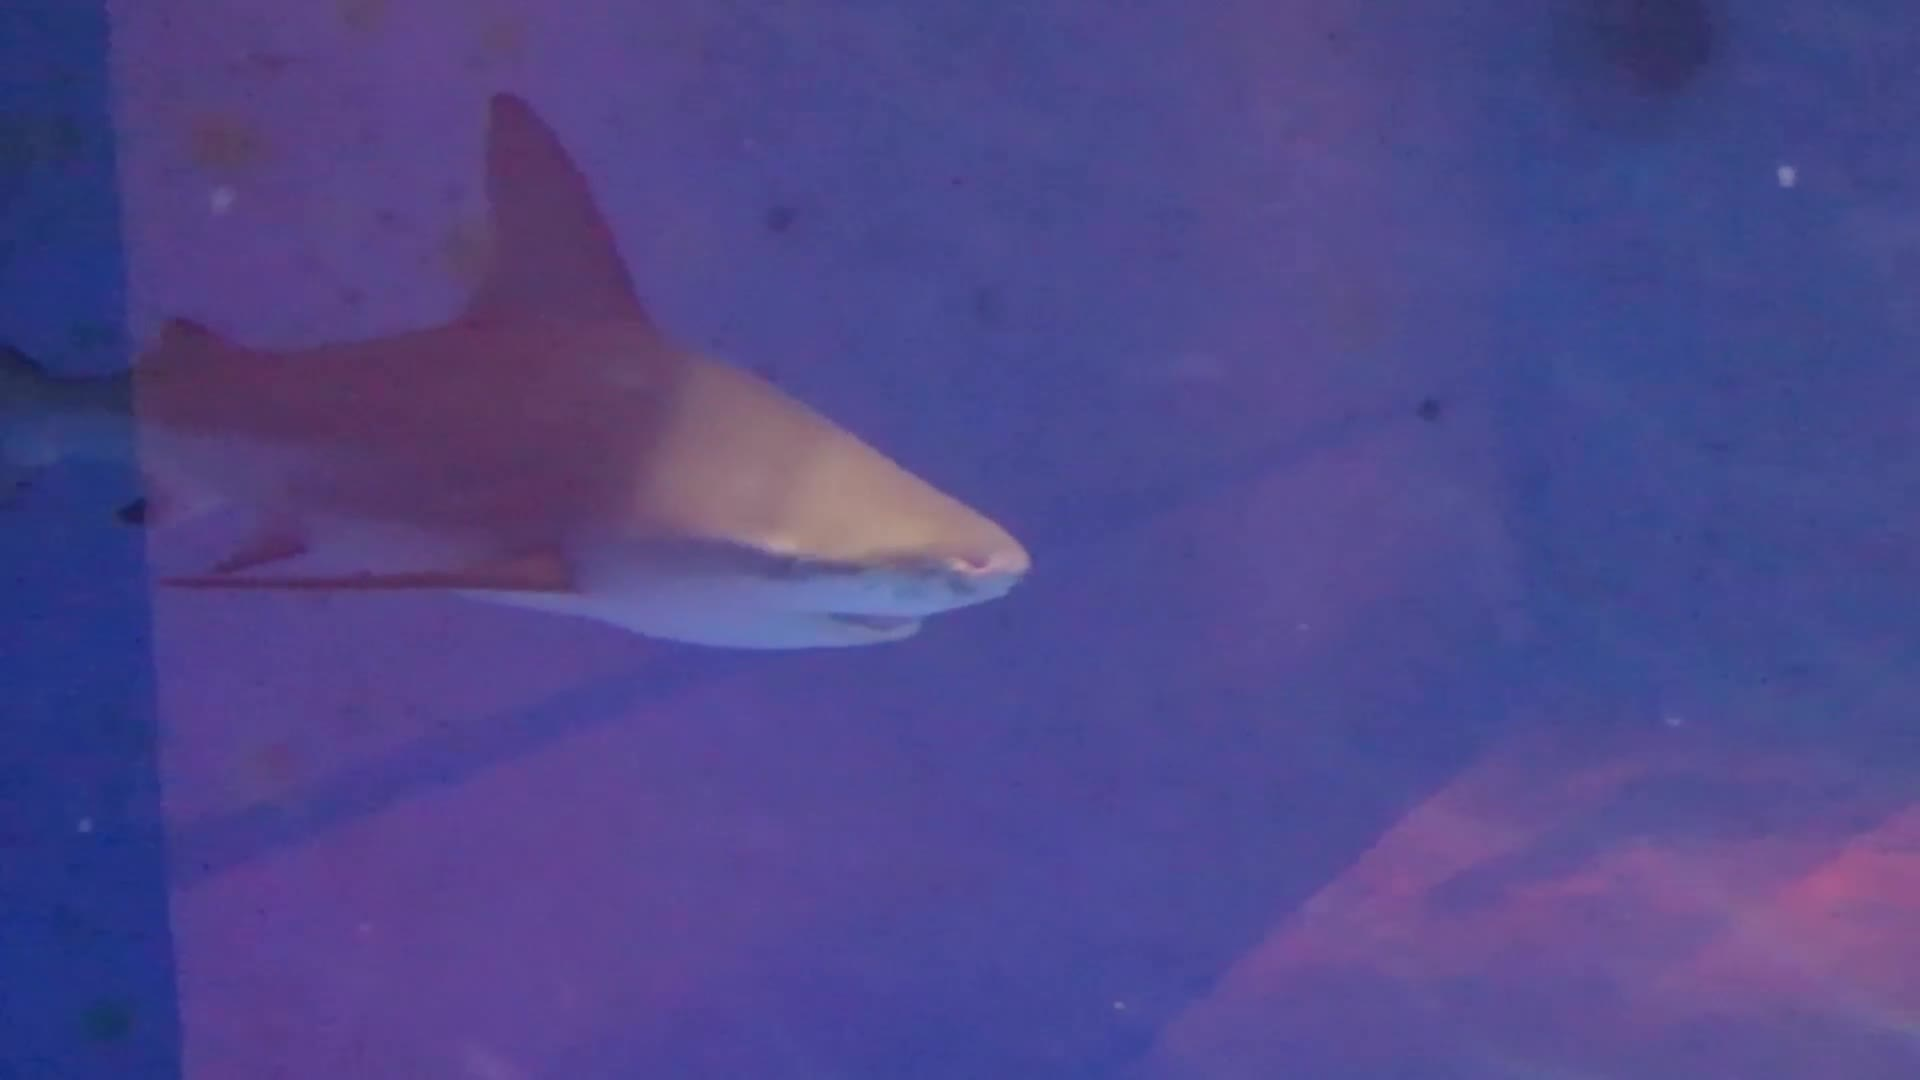Carcharhinus leucas: (1, 73, 1047, 737)
